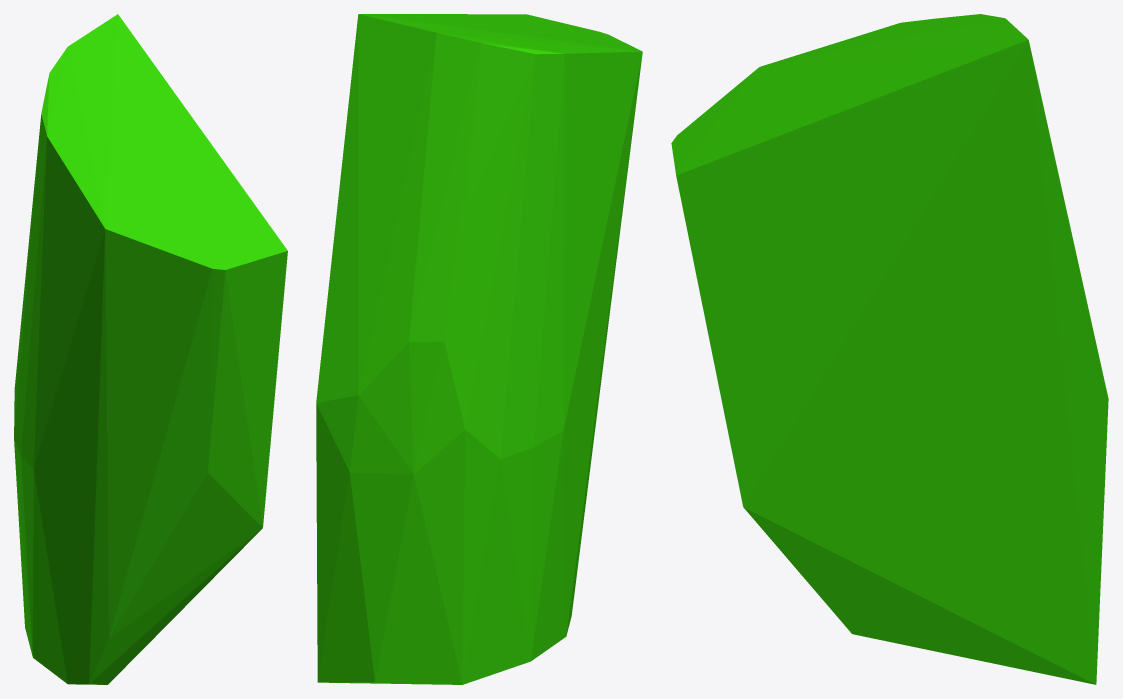
File: arm-L2_convex_piece_003.obj
3 renders of one model, left to right at view 1: azimuth 30°, elevation 25°; view 2: azimuth 150°, elevation 25°; view 3: azimuth 270°, elevation 25°, orthographic. The views are drawn at different scales.
Size of the model in its own units: 0.0385 by 0.1445 by 0.089.
